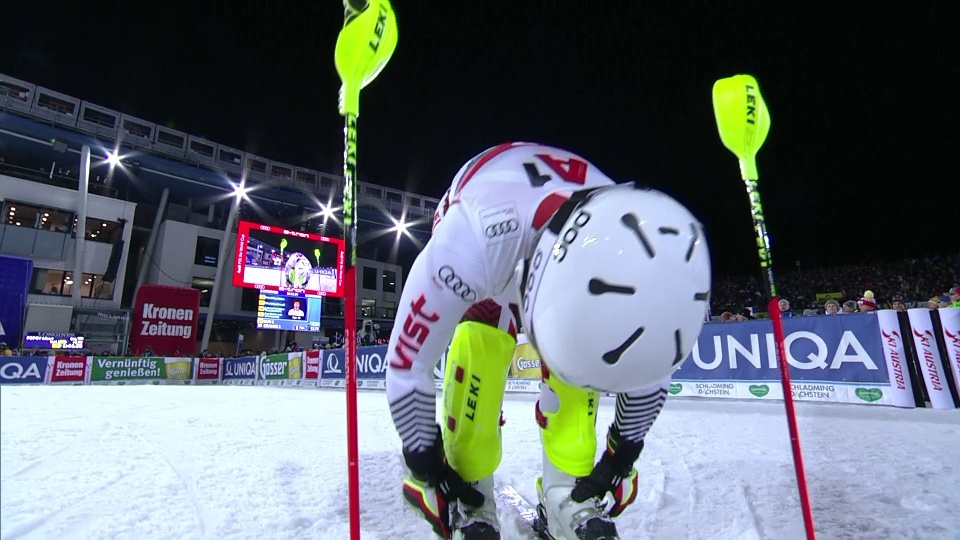a1: (520, 153, 593, 189)
audi: (435, 263, 477, 304), (483, 216, 523, 241)
goesser: (95, 360, 177, 386), (260, 356, 298, 383)
kronenzeitung: (137, 300, 198, 344), (53, 359, 87, 384), (198, 360, 221, 383)
steiermark: (854, 386, 889, 405), (743, 384, 775, 399)
uniqa: (697, 319, 873, 372), (322, 349, 390, 378), (225, 361, 258, 382)
